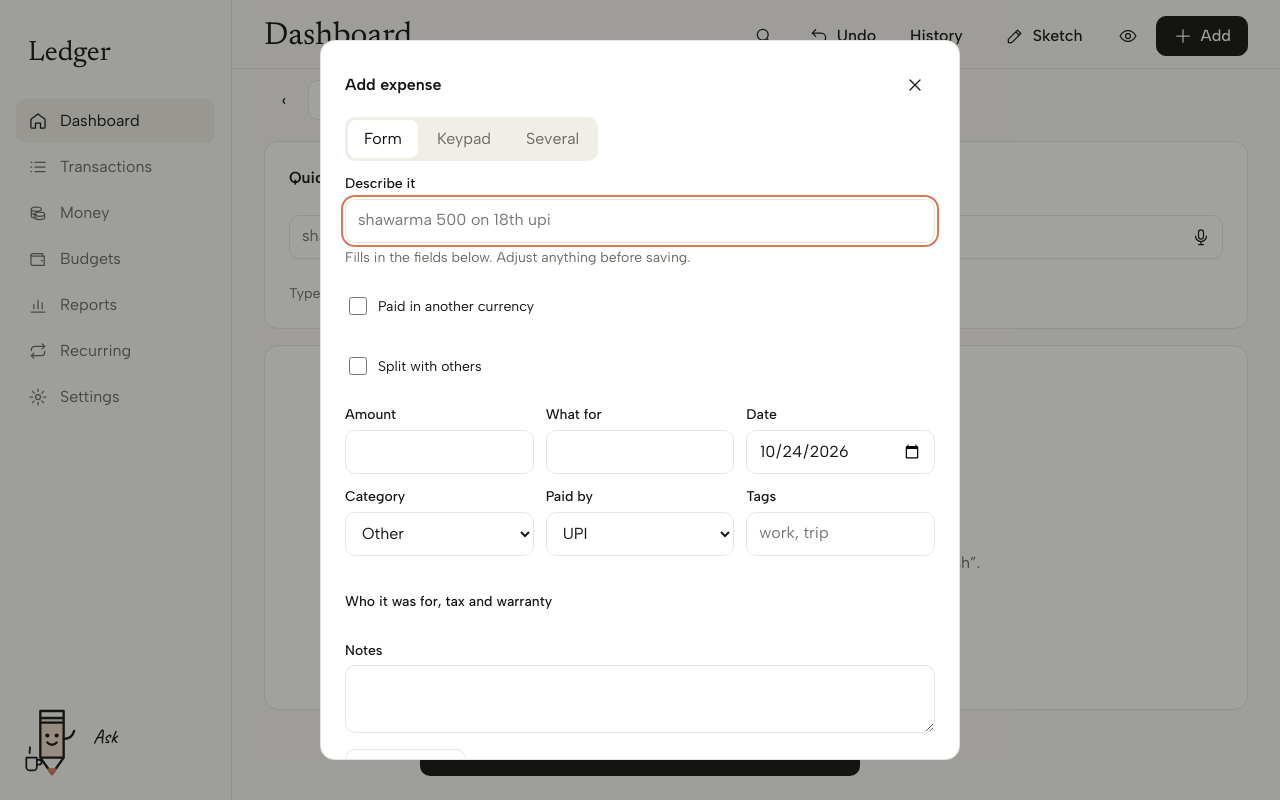
Test: maths and Indian languages in quick add and the form › the amount field shows a sum and keeps its result
Check: the heading "Dashboard" is shown, box [264, 20, 412, 52]
Type "250+120/2" into the field labelled "Amount". click: {"x": 439, "y": 452}
box: [345, 430, 534, 474]
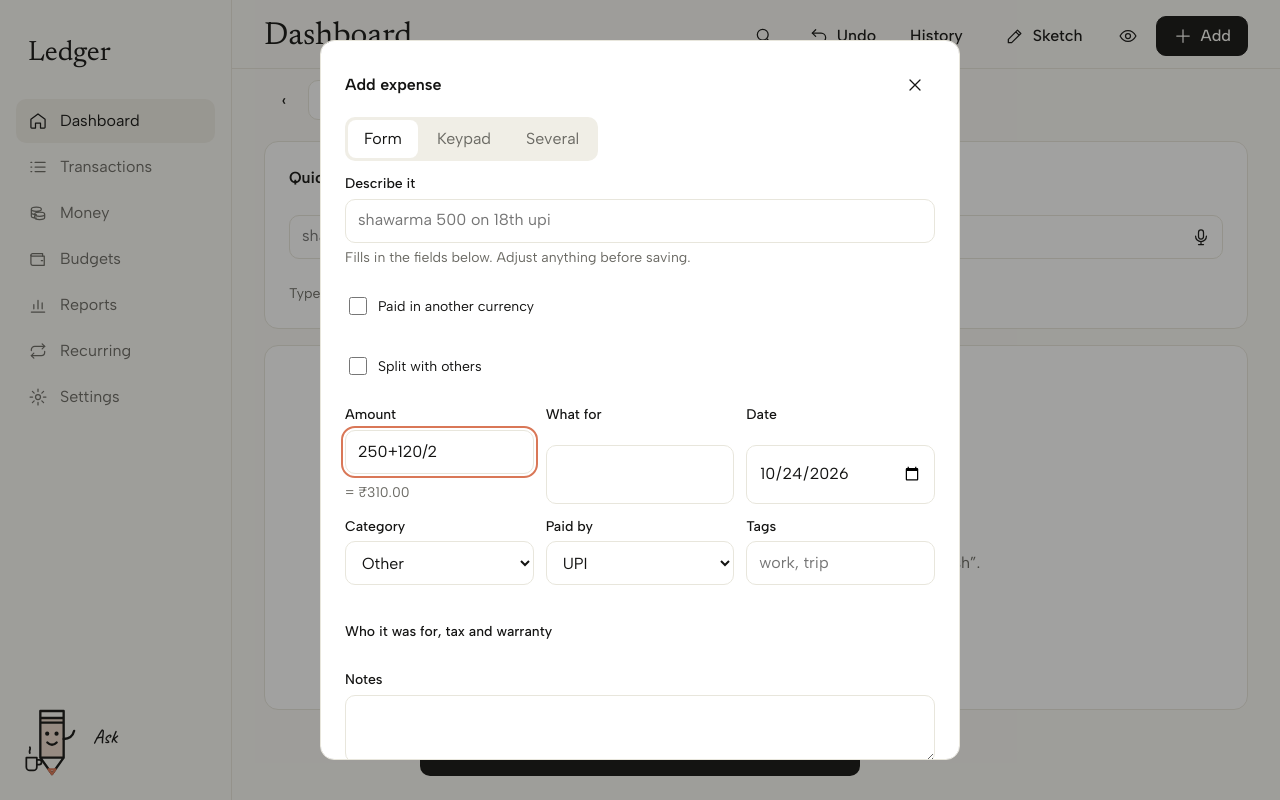
Check: the text "= ₹310.00" is shown, box [345, 484, 410, 501]
Leave the field labelled "Amount", box [345, 430, 534, 474]
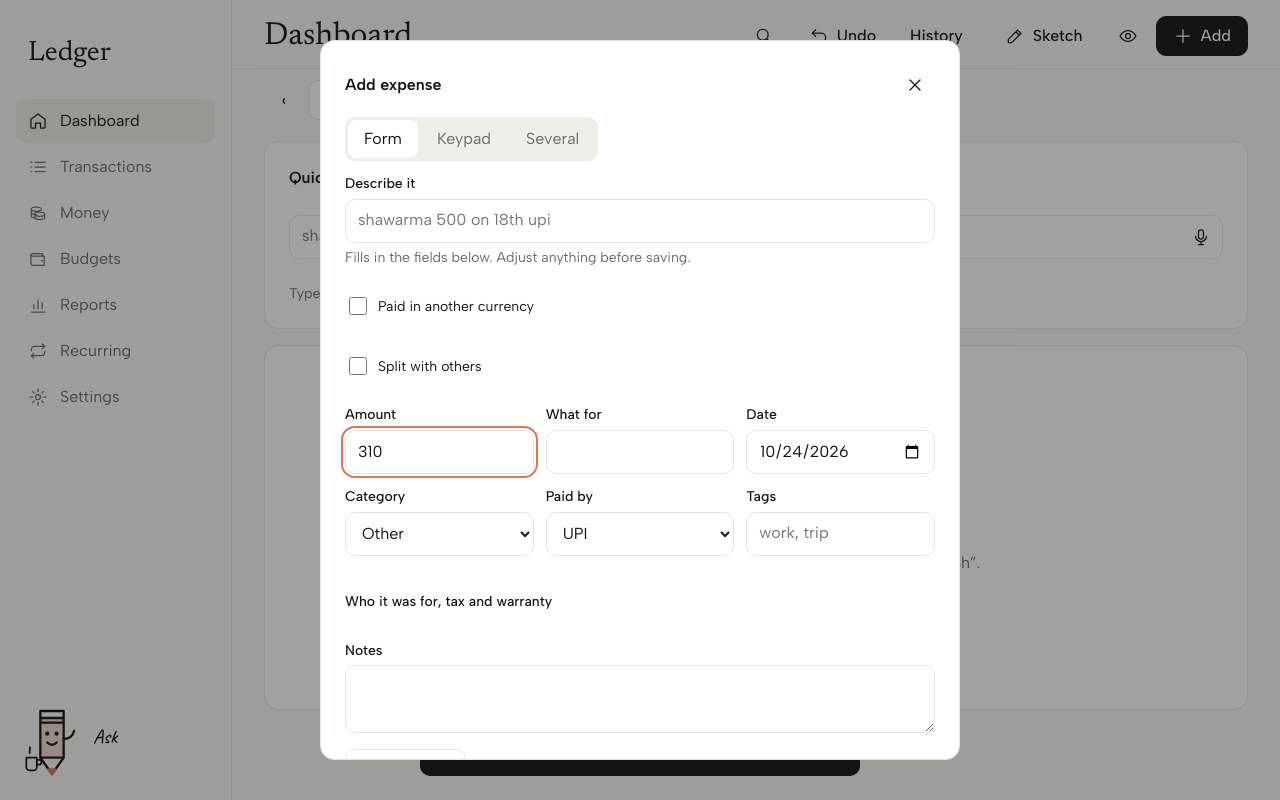
Check: the field labelled "Amount" holds "310", box [345, 430, 534, 474]
